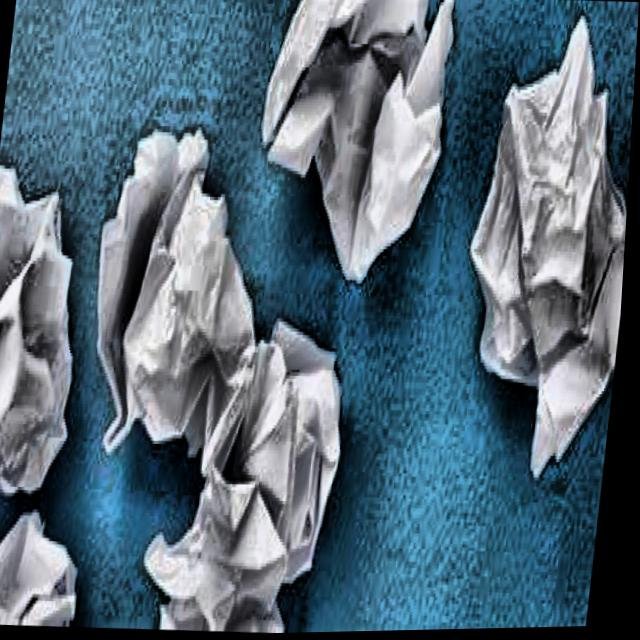Paper: (70, 90, 385, 638), (444, 0, 640, 507), (234, 0, 472, 335), (0, 130, 109, 505), (0, 476, 104, 630)
